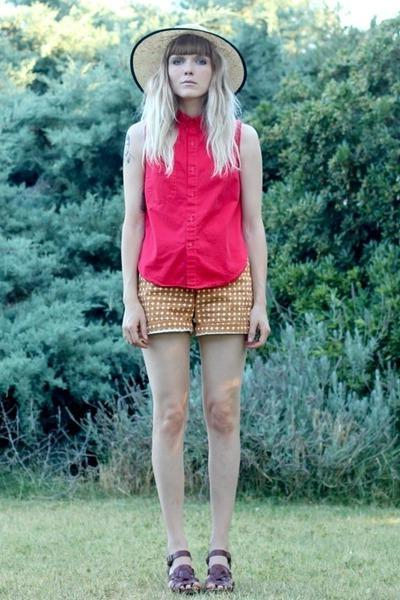Shorts: (122, 252, 269, 336)
short sleeve shirt: (129, 115, 247, 285)
